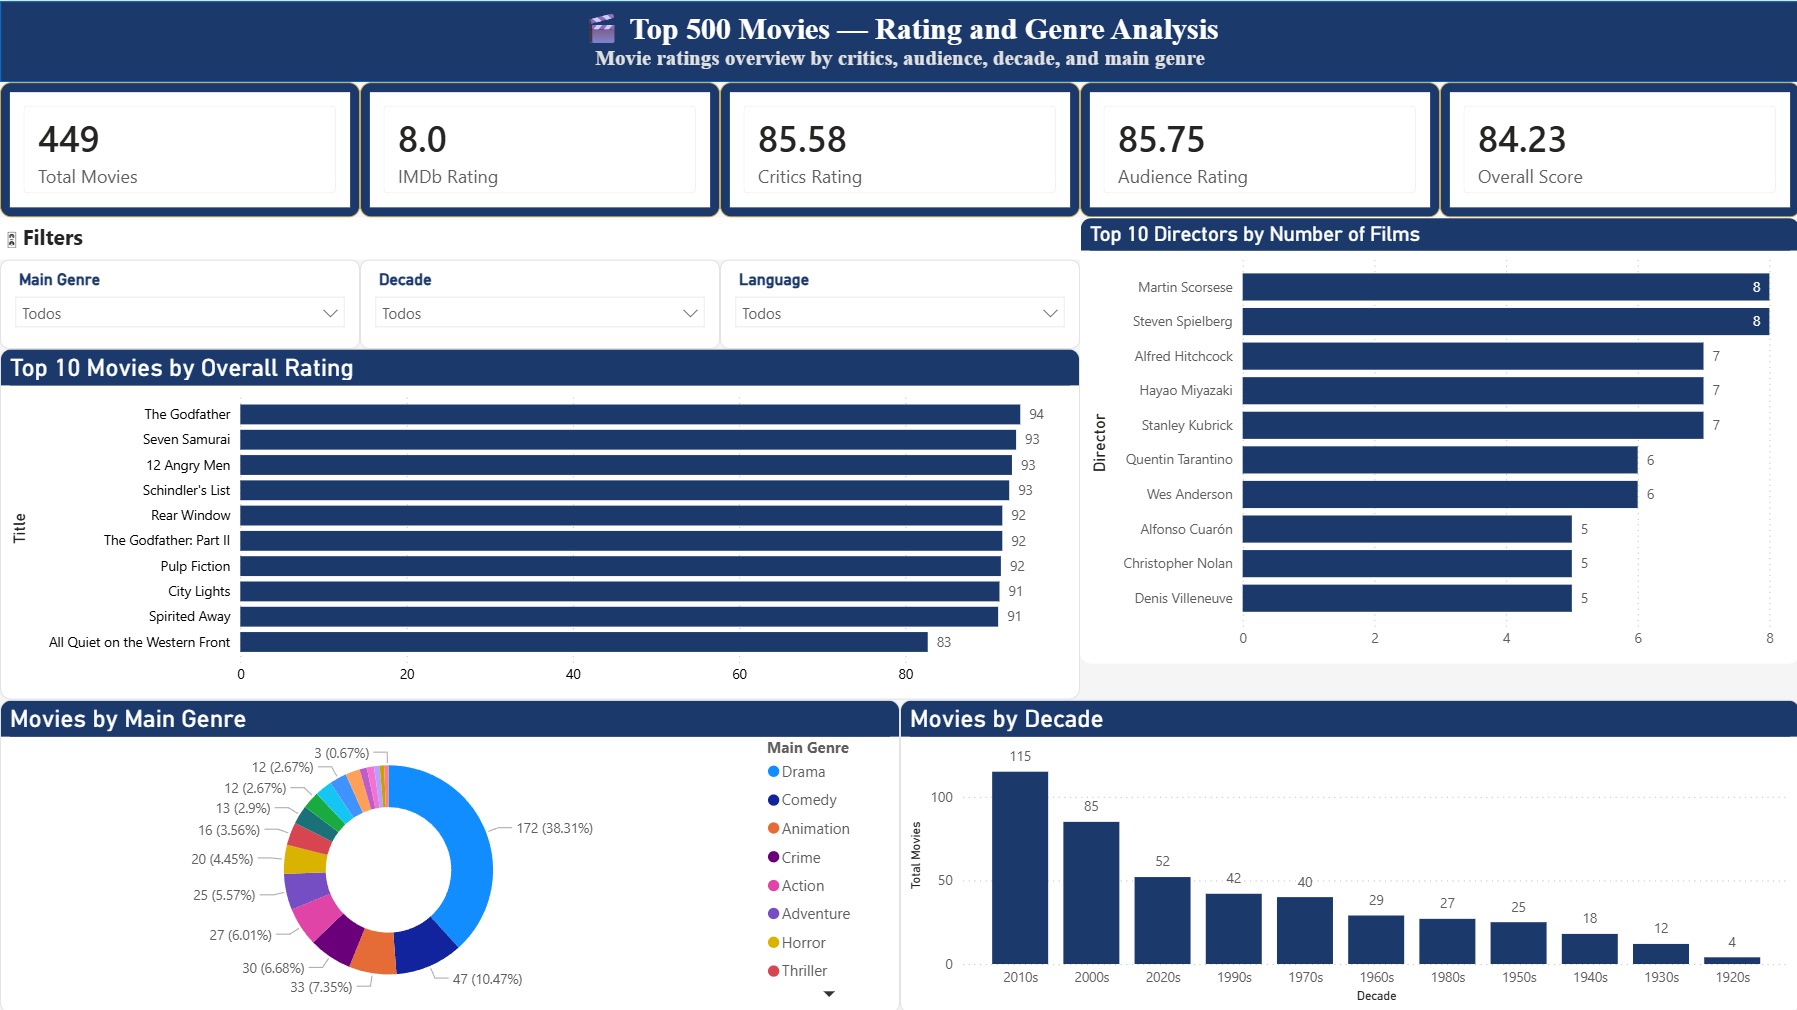

Layout of this report page (visuals, bound fields, positions):
{"tool":"powerbi","page":{"name":"Página 1","canvas":[1600,900],"ordinal":0},"visuals":[{"type":"textbox","box":[0,192.2,960,37.8],"z":0},{"type":"shape","box":[0,0,1600,72.2],"z":1000},{"type":"cardVisual","title":"Total de Filmes","fields":{"Data":["FILMES.Total de Filmes"]},"box":[0,72.2,320,120],"z":2000},{"type":"cardVisual","title":"Média IMDb","fields":{"Data":["FILMES.Média IMDb"]},"box":[320,72.2,320,120],"z":3000},{"type":"cardVisual","title":"Média dos Críticos   ","fields":{"Data":["FILMES.Média dos Criticos"]},"box":[640,72.2,320,120],"z":4000},{"type":"cardVisual","title":"Média Publico","fields":{"Data":["FILMES.Média Publico"]},"box":[960,72.2,320,120],"z":5000},{"type":"barChart","title":"Top 10 Movies by Overall Rating","fields":{"Category":["FILMES.Title"],"Y":["Avg(FILMES.Custom_Score)"]},"box":[0,308.9,960,312.2],"z":6000},{"type":"columnChart","title":"Movies by Decade","fields":{"Category":["FILMES.Década"],"Y":["FILMES.Total de Filmes"]},"box":[800,621.1,800,278.9],"z":7000},{"type":"donutChart","title":"Movies by Main Genre","fields":{"Category":["FILMES.Gênero Principal"],"Y":["FILMES.Total de Filmes"]},"box":[0,621.1,800,278.9],"z":8000},{"type":"clusteredBarChart","title":"Top 10 Directors by Number of Films","fields":{"Category":["FILMES.Director"],"Y":["FILMES.Total de Filmes"]},"box":[960,192.2,640,396.7],"z":9000},{"type":"slicer","fields":{"Values":["FILMES.Gênero Principal"]},"box":[0,230,320,78.9],"z":10000},{"type":"slicer","fields":{"Values":["FILMES.Language"]},"box":[640,230,320,78.9],"z":11000},{"type":"slicer","fields":{"Values":["FILMES.Década"]},"box":[320,230,320,78.9],"z":12000},{"type":"cardVisual","fields":{"Data":["FILMES.Média Nota Geral"]},"box":[1280,72.2,320,120],"z":13000},{"type":"textbox","box":[0,0,1600,72.2],"z":14000}]}

Visuals, with their boxes in screenshot pixels (x1, y1, x2, y2), scaled from the page's 1600x900 canvas onto the 1797x1010 screenshot:
textbox: bbox=[0, 216, 1078, 258]
shape: bbox=[0, 0, 1796, 81]
"Total de Filmes" cardVisual: bbox=[0, 81, 359, 216]
"Média IMDb" cardVisual: bbox=[359, 81, 719, 216]
"Média dos Críticos   " cardVisual: bbox=[719, 81, 1078, 216]
"Média Publico" cardVisual: bbox=[1078, 81, 1438, 216]
"Top 10 Movies by Overall Rating" barChart: bbox=[0, 347, 1078, 697]
"Movies by Decade" columnChart: bbox=[898, 697, 1796, 1009]
"Movies by Main Genre" donutChart: bbox=[0, 697, 898, 1009]
"Top 10 Directors by Number of Films" clusteredBarChart: bbox=[1078, 216, 1796, 661]
slicer - FILMES.Gênero Principal: bbox=[0, 258, 359, 347]
slicer - FILMES.Language: bbox=[719, 258, 1078, 347]
slicer - FILMES.Década: bbox=[359, 258, 719, 347]
cardVisual - FILMES.Média Nota Geral: bbox=[1438, 81, 1796, 216]
textbox: bbox=[0, 0, 1796, 81]
